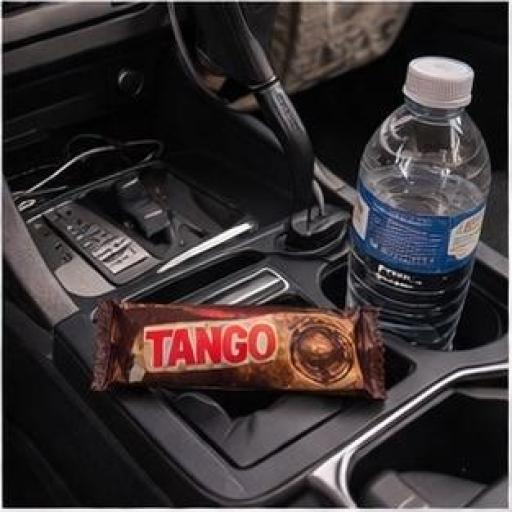tango: (56, 250, 416, 465)
